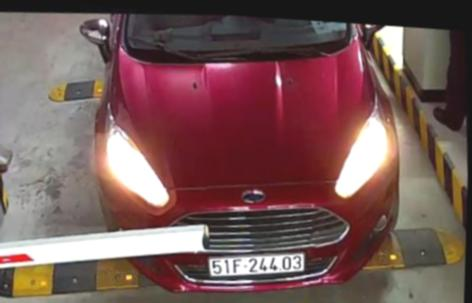License_Plate: (200, 241, 311, 286)
